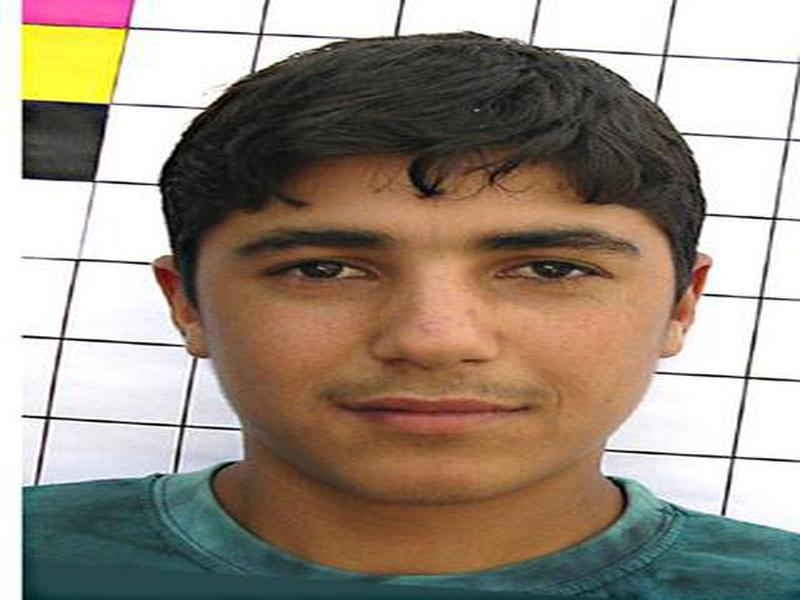without_mask: (192, 172, 668, 499)
